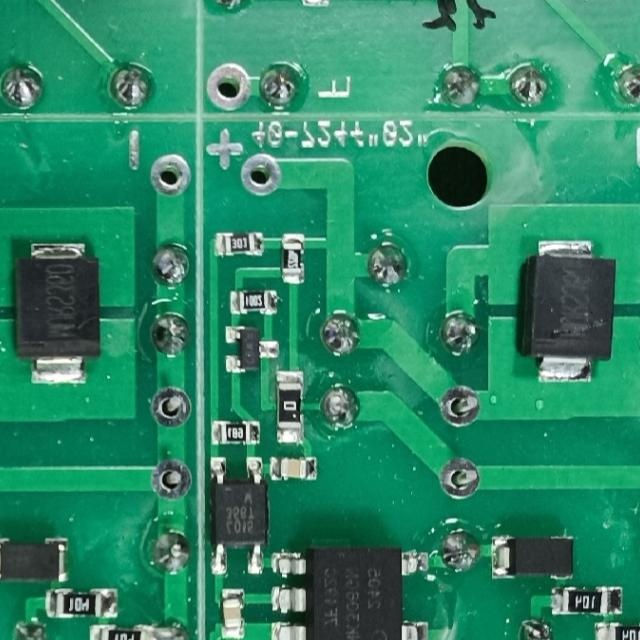chip-capacitor: (218, 587, 243, 640), (267, 455, 317, 481)
chip-resistor: (272, 368, 304, 446), (548, 584, 624, 616), (42, 588, 117, 620), (206, 418, 262, 446), (277, 231, 304, 285), (226, 288, 278, 315), (211, 231, 264, 257), (86, 623, 154, 640), (591, 620, 640, 640)
diode: (516, 238, 616, 385), (11, 241, 100, 387), (488, 534, 575, 582), (0, 535, 69, 585)
ic: (268, 547, 430, 640), (206, 454, 266, 578)
transistor: (221, 325, 279, 375)
